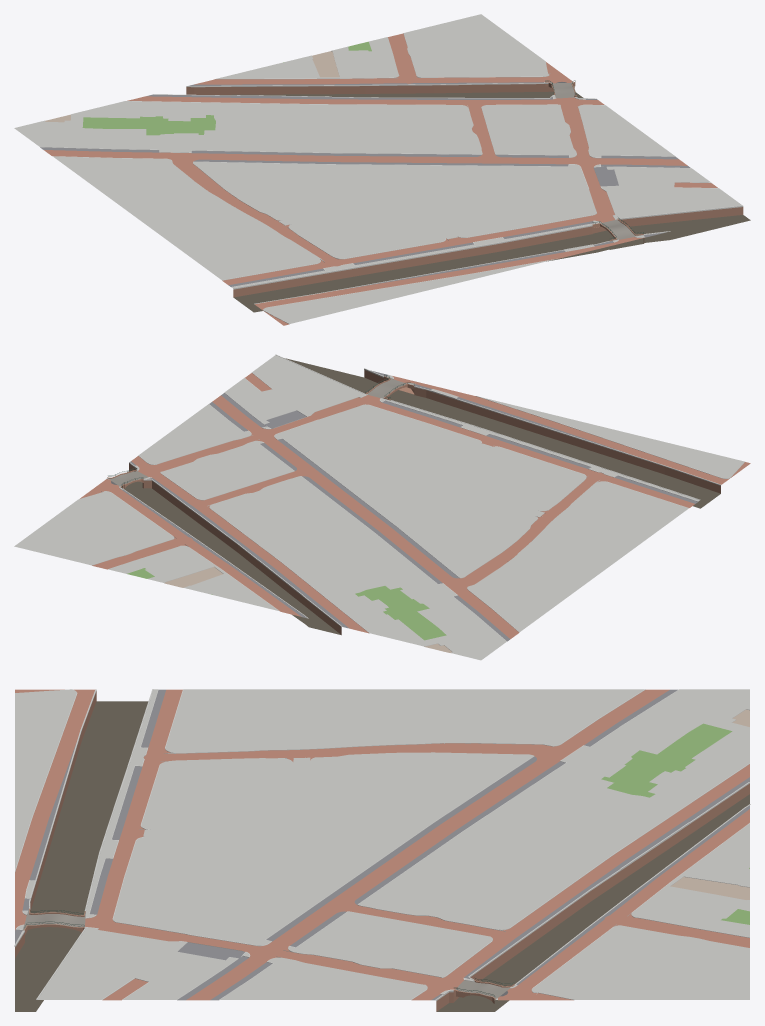
Rendered from ground_10_11.glb.
The picture shows the model from 3 angles, top to bottom: view 1: azimuth 30°, elevation 25°; view 2: azimuth 150°, elevation 25°; view 3: azimuth 270°, elevation 25°; orthographic projection. The views are drawn at different scales.
Visible parts, largest first — view 1: ground_10_11; view 2: ground_10_11; view 3: ground_10_11.
Part boxes in pixels (x1,y1,x2,y2): ground_10_11: [14, 14, 750, 325]; ground_10_11: [14, 354, 750, 660]; ground_10_11: [14, 689, 750, 1011].
Size of the model in its own units: 200 by 5.2 by 201.
